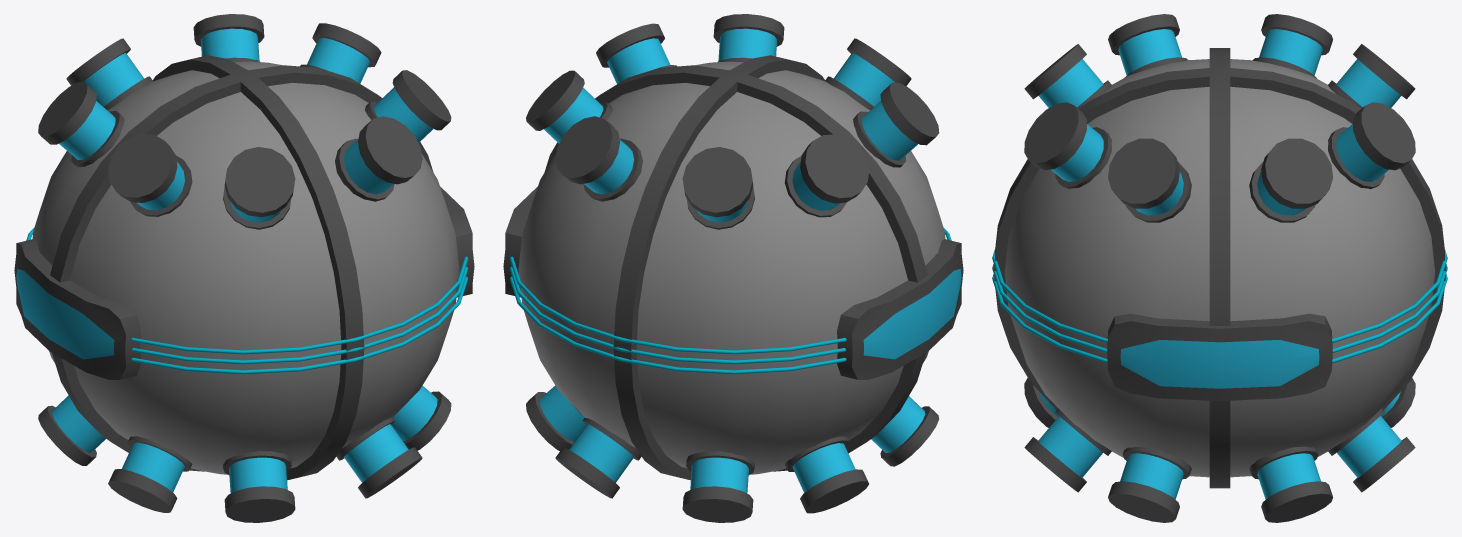
File: Bomb.fbx
3 renders of one model, left to right at view 1: azimuth 30°, elevation 25°; view 2: azimuth 150°, elevation 25°; view 3: azimuth 270°, elevation 25°, orthographic.
Parts seen in each view (by area): view 1: Bomb; view 2: Bomb; view 3: Bomb.
Boxes of the visible parts, left/top/right/bottom form: Bomb: left=14, top=14, right=474, bottom=522; Bomb: left=503, top=14, right=963, bottom=522; Bomb: left=992, top=14, right=1447, bottom=522.
Bounding box in the file's own units: 227 × 211 × 222.
